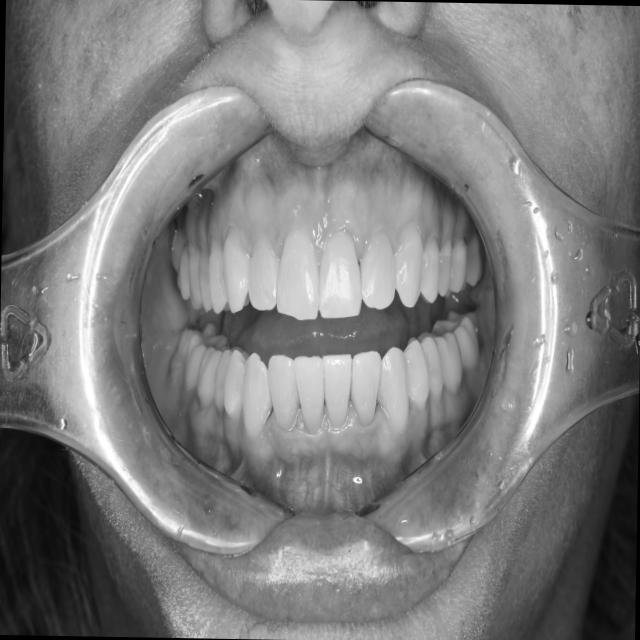tooth: (266, 218, 329, 335), (311, 229, 367, 327), (373, 339, 421, 443), (259, 343, 306, 442), (356, 224, 401, 318), (211, 220, 252, 320), (237, 351, 281, 444), (319, 345, 361, 441), (242, 226, 282, 323), (288, 351, 333, 437), (348, 347, 388, 429), (397, 334, 435, 420), (390, 224, 425, 311), (432, 316, 484, 373), (181, 331, 228, 392), (414, 328, 449, 407), (430, 328, 466, 397), (219, 345, 248, 424), (205, 240, 230, 321), (192, 343, 219, 418), (190, 239, 215, 318), (418, 234, 443, 310), (209, 339, 231, 421), (445, 232, 472, 298), (175, 319, 218, 359), (433, 229, 455, 304), (462, 229, 487, 291), (184, 241, 205, 314), (174, 241, 192, 305), (447, 305, 485, 331), (169, 224, 186, 272)
